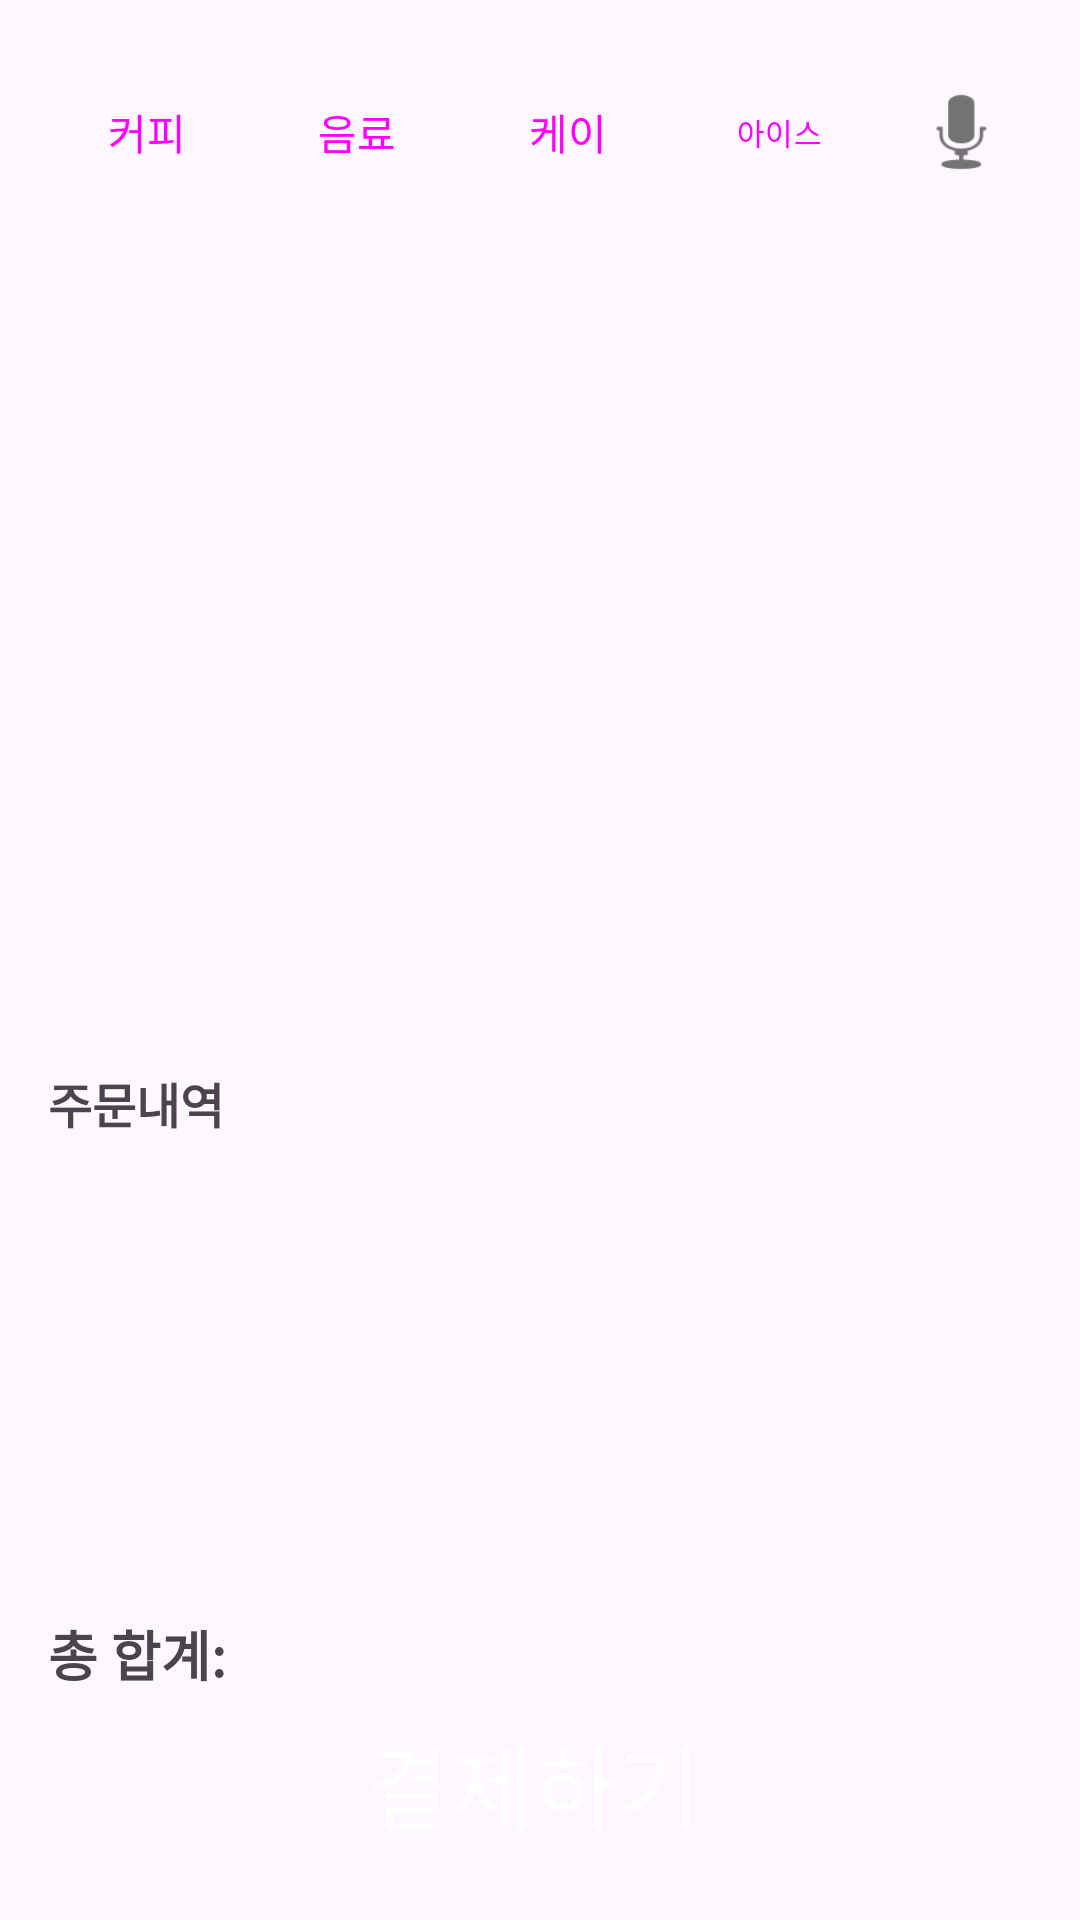

Icons on this 1080*1920 Android screen, each with its box as (x1, y1, x2, y2):
speak now: (936, 95, 987, 169)
